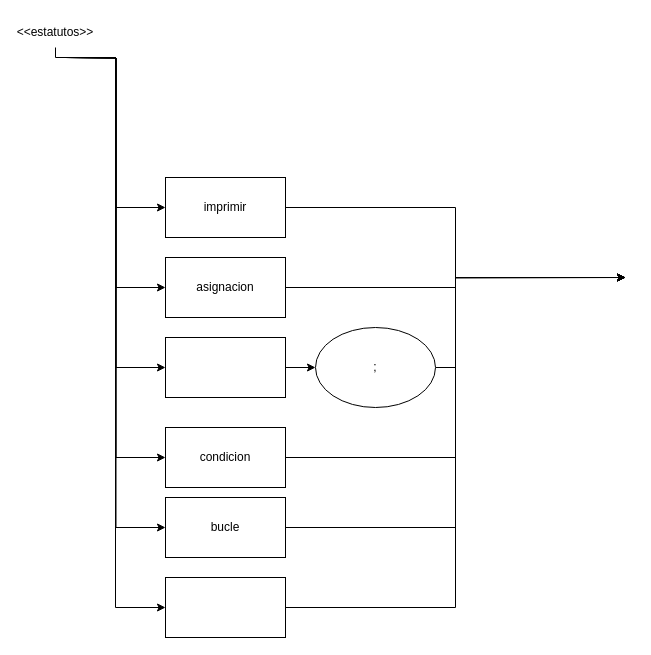
The diagram is 651 pixels wide and 655 high, and some of its shapes have lost their labels. Each missing label, with the centre of its shape:
expresion: [225,367]
returnf: [225,607]
